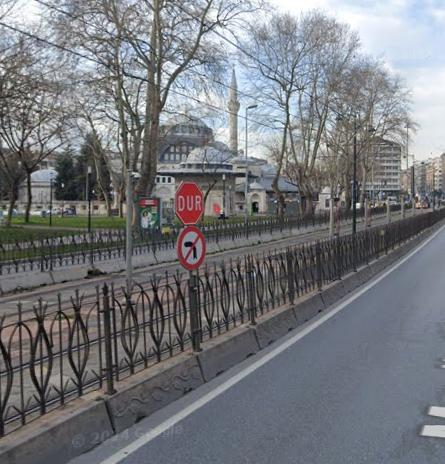leftturnsareforbidden: (177, 230, 205, 267)
stop: (176, 181, 205, 222)
